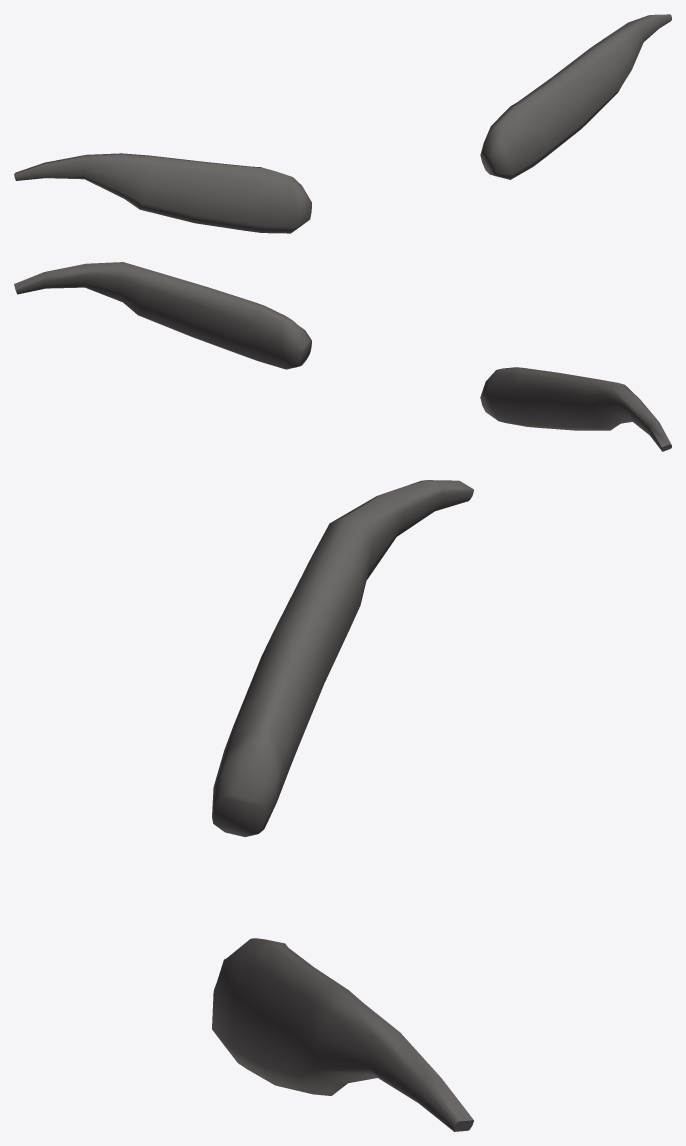
File: Eyebrows_03_04.fbx
The picture shows the model from 3 angles, top to bottom: view 1: azimuth 30°, elevation 25°; view 2: azimuth 150°, elevation 25°; view 3: azimuth 270°, elevation 25°; orthographic projection. The views are drawn at different scales.
Visible parts, largest first — view 1: Eyebrows_03_04; view 2: Eyebrows_03_04; view 3: Eyebrows_03_04.
Part boxes in pixels (x1,y1,x2,y2): Eyebrows_03_04: (14, 14, 671, 233); Eyebrows_03_04: (14, 262, 671, 451); Eyebrows_03_04: (212, 480, 473, 1131).
Bounding box in the file's own units: 18.82 × 2.52 × 3.25.
